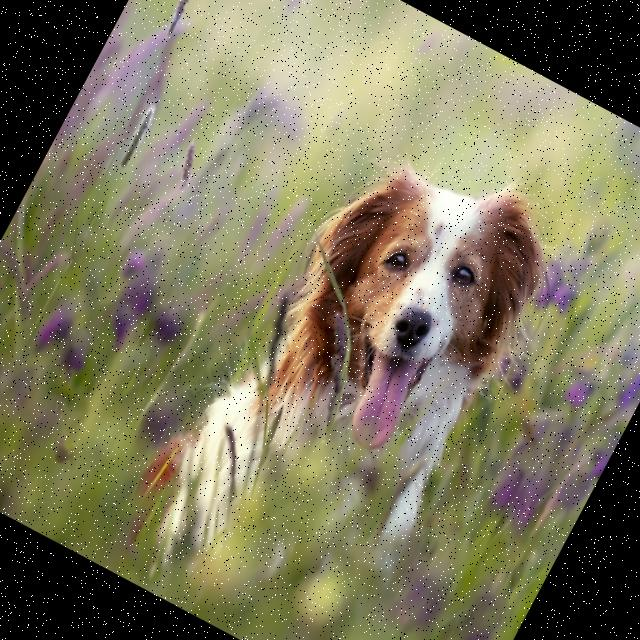Dog: (129, 106, 581, 640)
